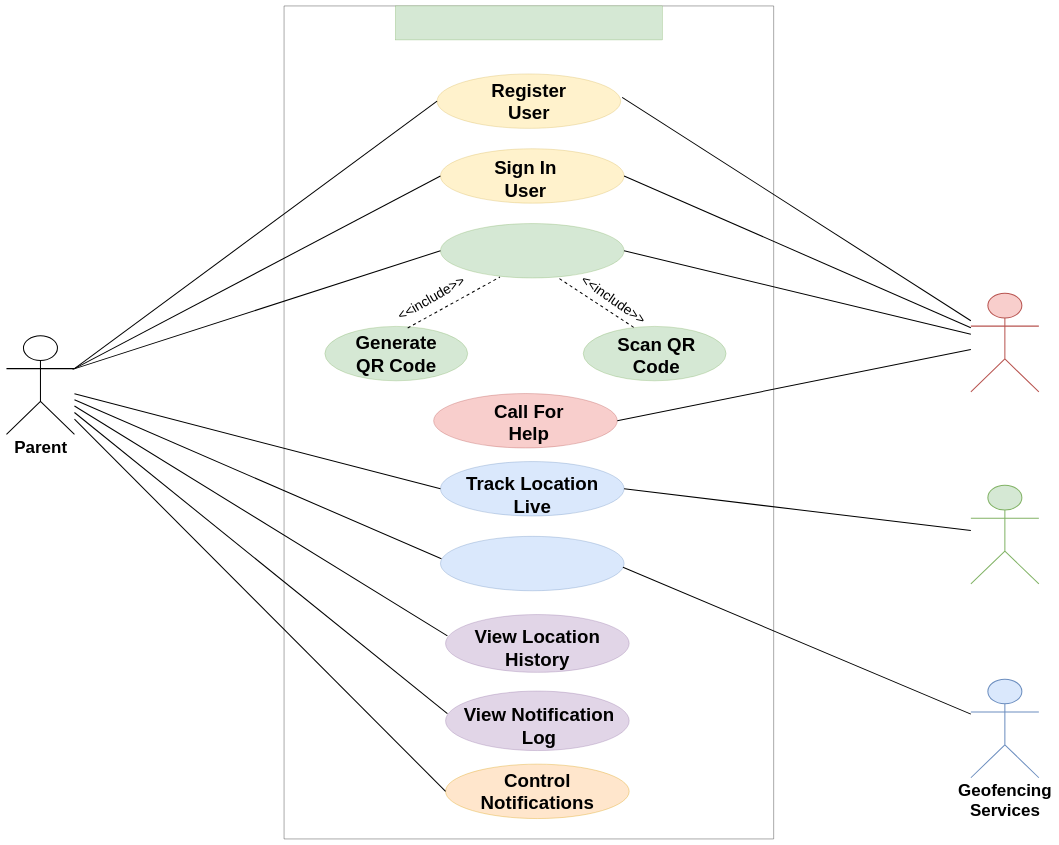
Some shapes in this 1059 by 845 pixel diagram are drawn without their labels. Here are the shapes that lost their labels. From the top down, the centre of each, then its label:
At point (528, 23): "Family GPS Tracker".
At point (532, 250): "Link Device".
At point (1004, 342): "Child".
At point (1004, 534): "Google Map Services".
At point (532, 563): "Set Geofences".
